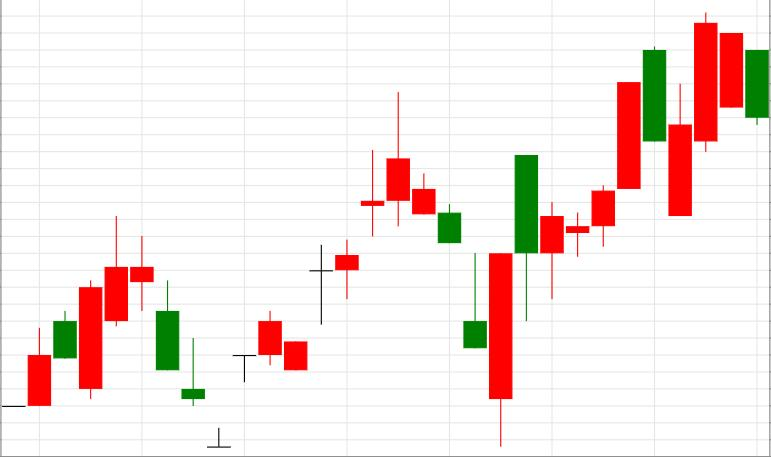bullish_engulfing_rise: (386, 92, 513, 446)
inverse_hammer_rise: (386, 92, 487, 349)
shooting_star_fall: (208, 92, 411, 448)
